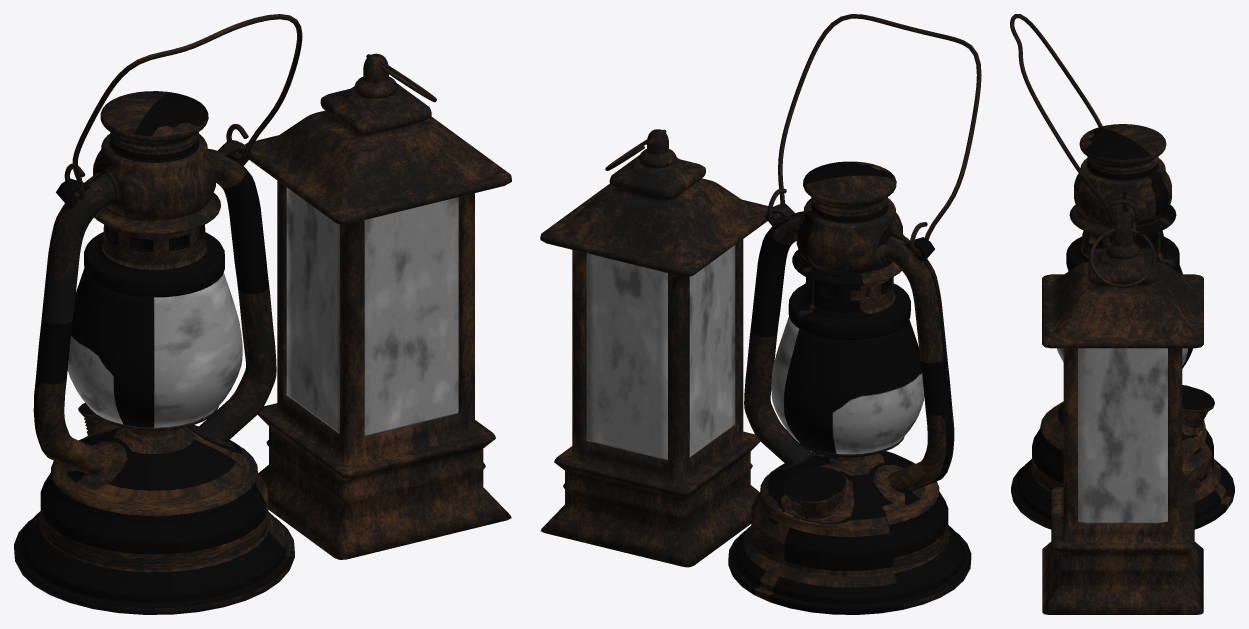
Rendered from bothLantern.fbx.
3 views of the same model, side by side, from view 1: azimuth 30°, elevation 25°; view 2: azimuth 150°, elevation 25°; view 3: azimuth 270°, elevation 25° (orthographic). The views are drawn at different scales.
Visible parts, largest first — view 1: body a classic lantern, body a square lantern, glass a squar lantern, glass a classic lantern, hold a classic lantern; view 2: body a classic lantern, body a square lantern, glass a squar lantern, glass a classic lantern, hold a classic lantern; view 3: body a square lantern, body a classic lantern, glass a squar lantern, hold a classic lantern, hold a square lantern.
Part boxes in pixels (x1,y1,x2,y2): body a classic lantern: (14, 91, 294, 614); body a square lantern: (244, 53, 511, 559); glass a squar lantern: (286, 187, 458, 436); glass a classic lantern: (67, 269, 242, 427); hold a classic lantern: (64, 14, 302, 200); body a classic lantern: (728, 161, 971, 614); body a square lantern: (540, 129, 768, 567); glass a squar lantern: (586, 245, 735, 460); glass a classic lantern: (771, 316, 924, 454); hold a classic lantern: (767, 14, 981, 253); body a square lantern: (1042, 223, 1203, 614); body a classic lantern: (1011, 124, 1234, 529); glass a squar lantern: (1078, 348, 1167, 523); hold a classic lantern: (1010, 14, 1139, 225); hold a square lantern: (1089, 228, 1156, 287).
Bounding box in the file's own units: 481 × 614 × 272.
